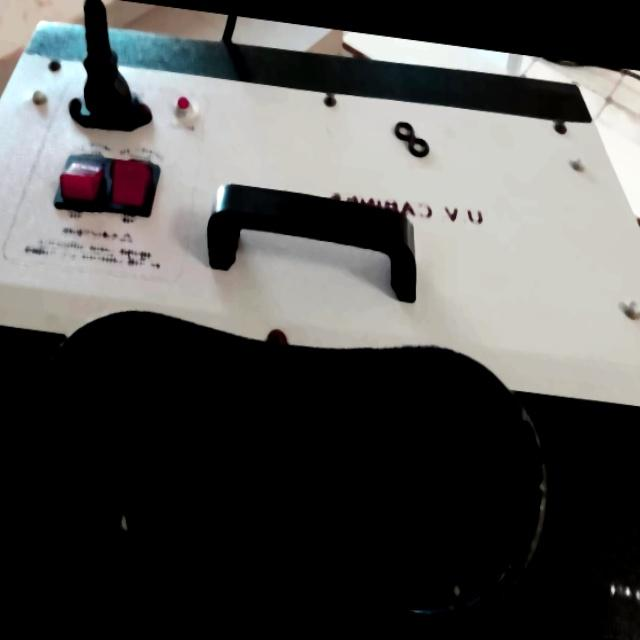U.V Cabinet: (0, 0, 593, 636)
